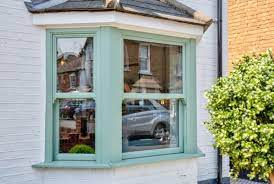Window: (111, 27, 192, 153), (50, 29, 101, 162)
